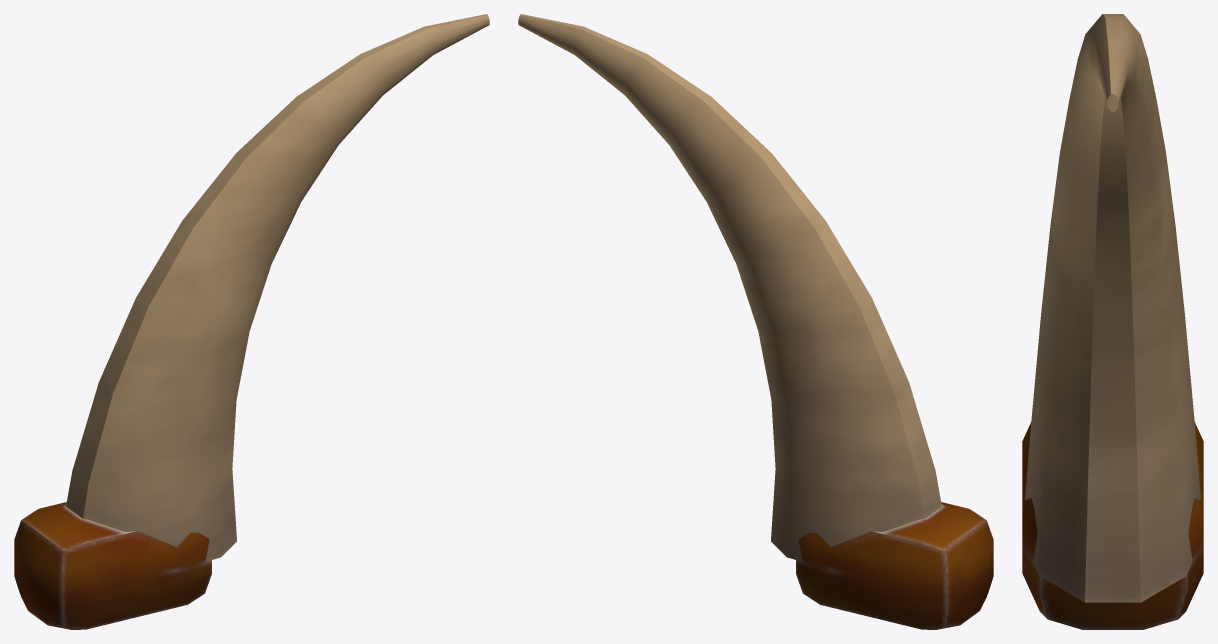
The model's file is claw.glb.
3 views of the same model, side by side, from view 1: azimuth 30°, elevation 25°; view 2: azimuth 150°, elevation 25°; view 3: azimuth 270°, elevation 25° (orthographic). The views are drawn at different scales.
Parts seen in each view (by area): view 1: SM_Claw; view 2: SM_Claw; view 3: SM_Claw.
Part boxes in pixels (x1,y1,x2,y2): SM_Claw: (14,14,489,629); SM_Claw: (518,14,993,629); SM_Claw: (1022,14,1203,629).
Bounding box in the file's own units: 0.2703 × 0.284 × 0.06.
2 materials, 2 textured.
